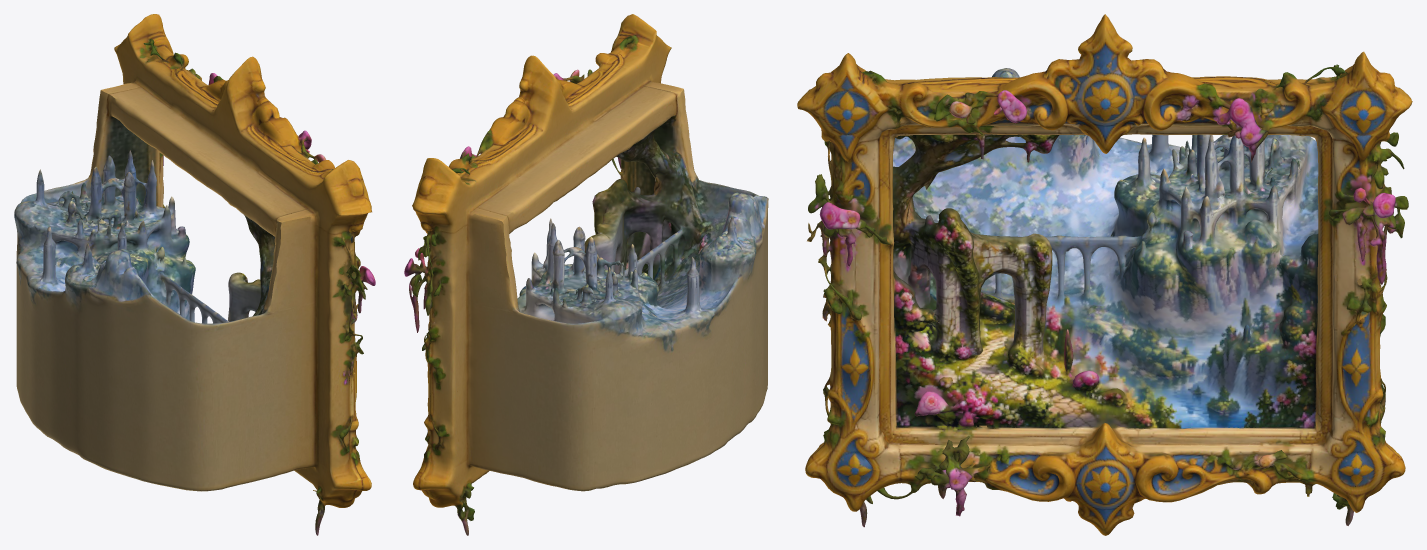
3 views of the same model, side by side, from view 1: azimuth 30°, elevation 25°; view 2: azimuth 150°, elevation 25°; view 3: azimuth 270°, elevation 25° (orthographic). The views are drawn at different scales.
Visible parts, largest first — view 1: tripo_node_5a98bc0c-d0f1-4479-9883-4e9ea6985e95; view 2: tripo_node_5a98bc0c-d0f1-4479-9883-4e9ea6985e95; view 3: tripo_node_5a98bc0c-d0f1-4479-9883-4e9ea6985e95.
Boxes of the visible parts, x1,y1,x2,y2 form: tripo_node_5a98bc0c-d0f1-4479-9883-4e9ea6985e95: (14,14,375,535); tripo_node_5a98bc0c-d0f1-4479-9883-4e9ea6985e95: (404,14,768,535); tripo_node_5a98bc0c-d0f1-4479-9883-4e9ea6985e95: (797,14,1412,535).
Size of the model in its own units: 0.5393 by 0.9262 by 0.9766.
Materials: 1 (1 with a texture image).
